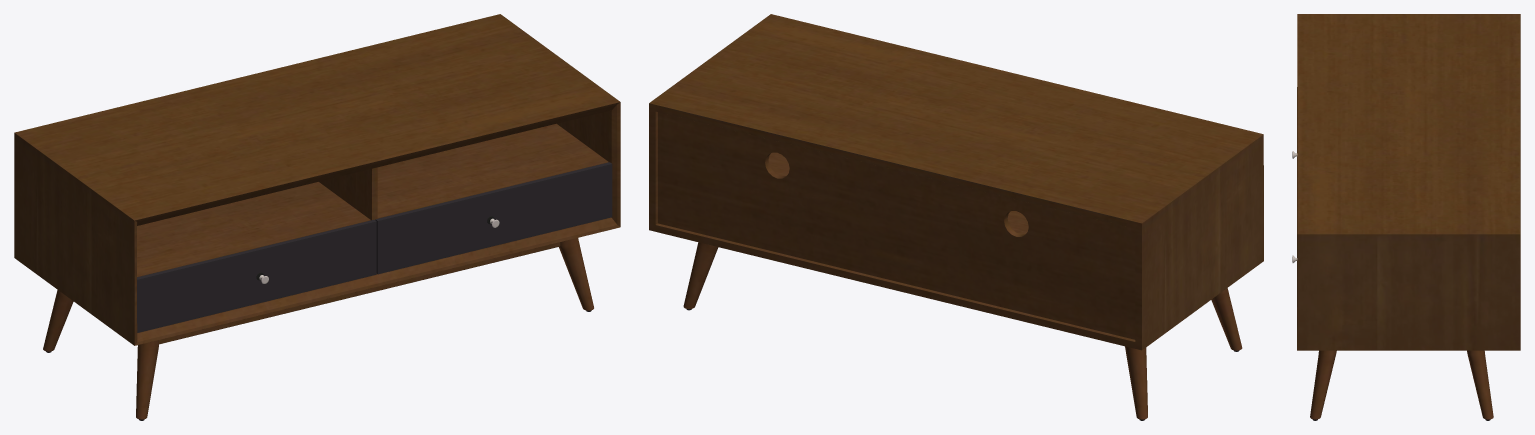
The model's file is mid_century_wood_media_console.glb.
3 views of the same model, side by side, from view 1: azimuth 30°, elevation 25°; view 2: azimuth 150°, elevation 25°; view 3: azimuth 270°, elevation 25° (orthographic). The views are drawn at different scales.
Visible parts, largest first — view 1: RootNode; view 2: RootNode; view 3: RootNode.
Boxes of the visible parts, bbox=[...] form: RootNode: bbox=[14, 14, 620, 420]; RootNode: bbox=[649, 14, 1263, 420]; RootNode: bbox=[1292, 14, 1520, 420].
Bounding box in the file's own units: 1.12 × 0.4641 × 0.4895.
1 material, 1 textured.
